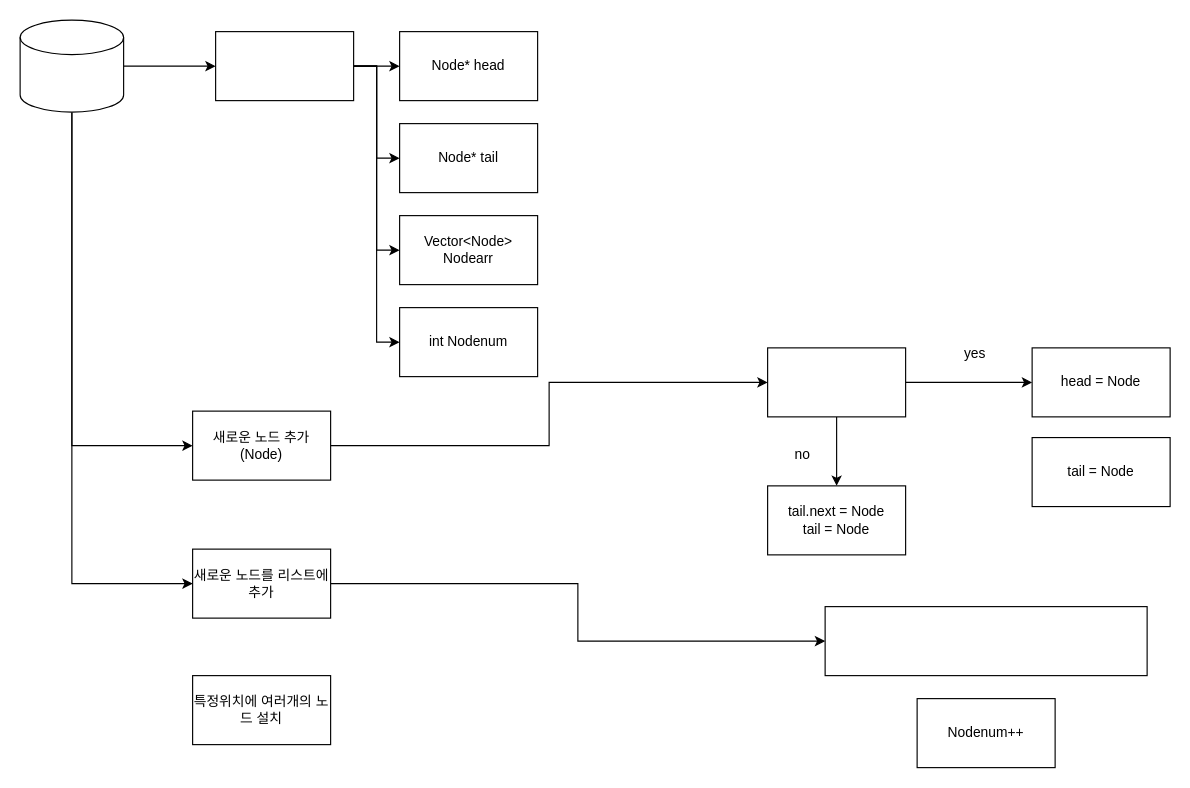
This 1190x788 diagram has some shape labels left out. Here are the shapes that lost their labels. From the top down, the centre of each, then its label:
the point at 71,65: 링크드리스트
the point at 284,65: 기본 객체
the point at 836,382: head == nullptr
the point at 985,640: Nodearr[Nodenum] = new Node()
